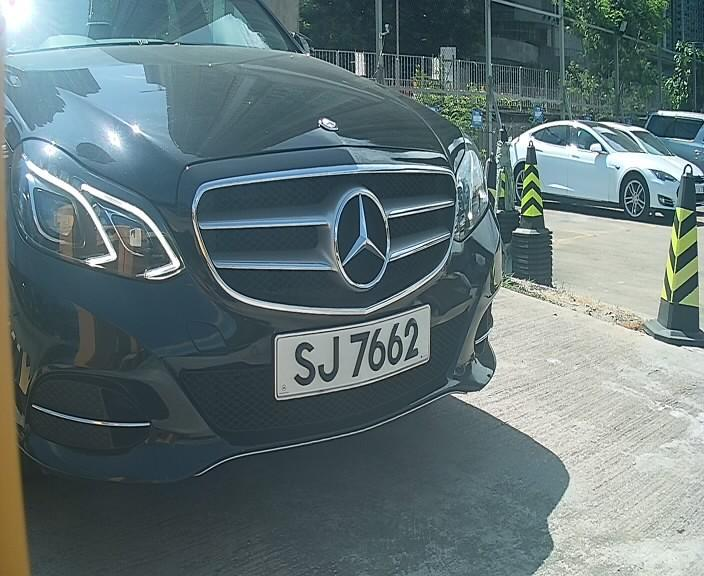privatecar: (2, 4, 505, 513)
